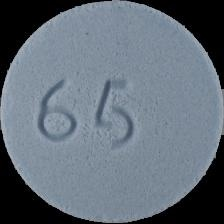65580-644: (0, 0, 224, 224)
